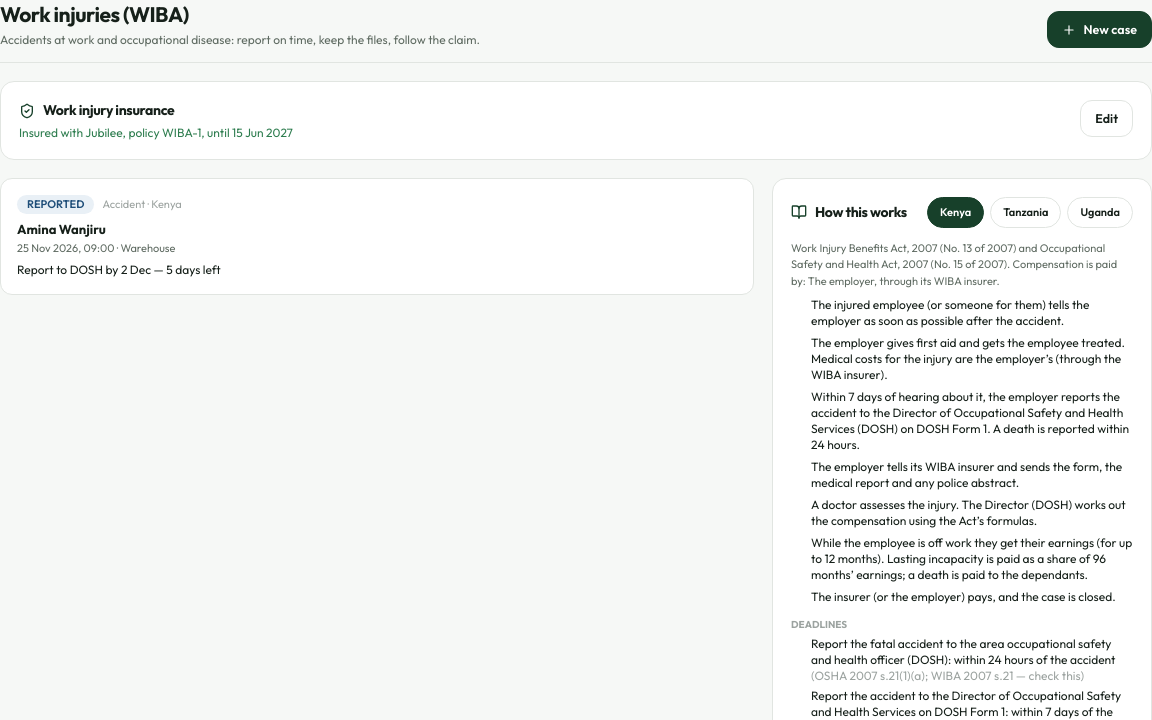
Test case: Work injuries page › a case shows the estimate, clearly an estimate, never payroll
The image size is (1152, 720).
Click the button with aria-label "Open the case of Amina Wanjiru".
click(56, 204)  # box top-left (1, 179), bottom-right (753, 294)
(page scrolled)
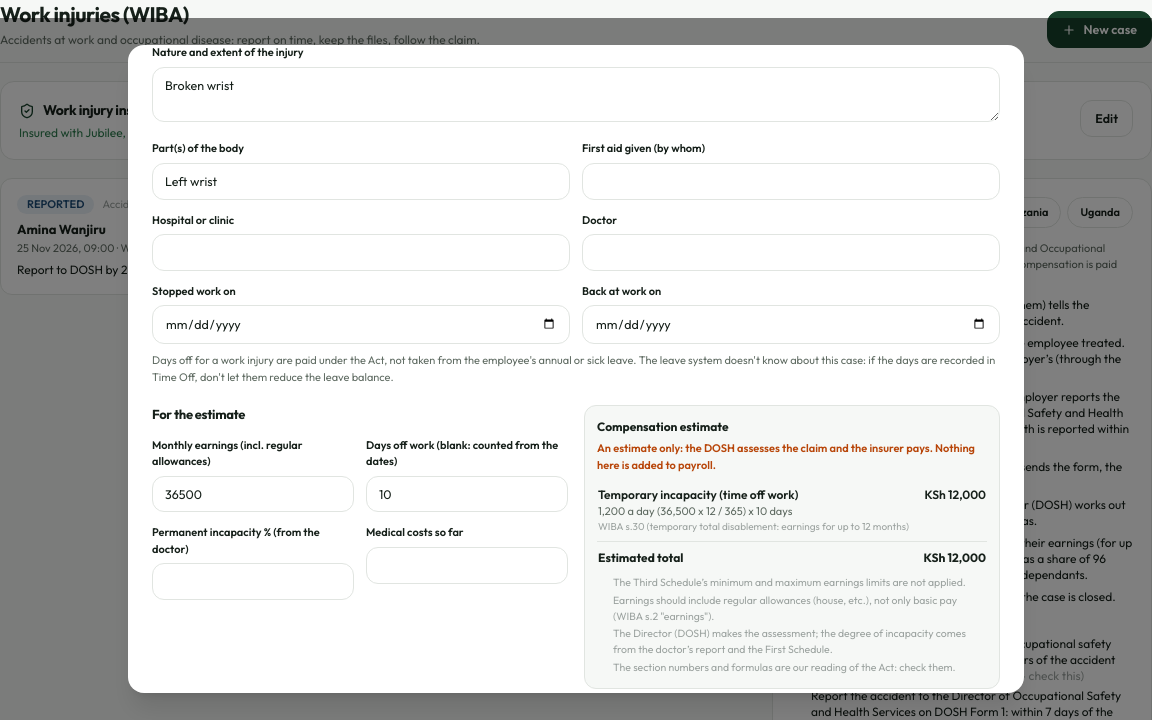
Check: the text "An estimate only" shows "Nothing here is added to payroll", box top-left (597, 441), bottom-right (975, 472)
Check: the cell with test id "estimate-total" shows "12,000", box top-left (924, 550), bottom-right (986, 565)
Check: the text "not taken from the employee.s annual or sick leave" is shown, box top-left (152, 353), bottom-right (995, 384)
